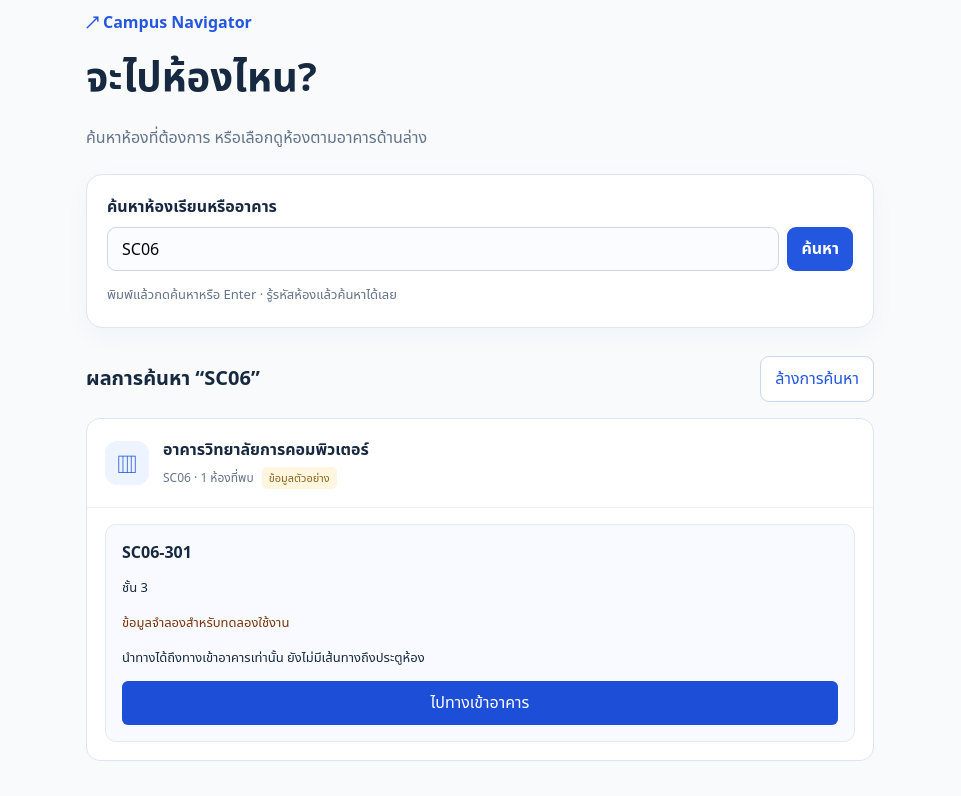
it: choosing another room returns to the search
The image size is (961, 796).
Click the button "ไปทางเข้าอาคาร". click: (480,703)
box: x1=122 y1=681 x2=838 y2=725
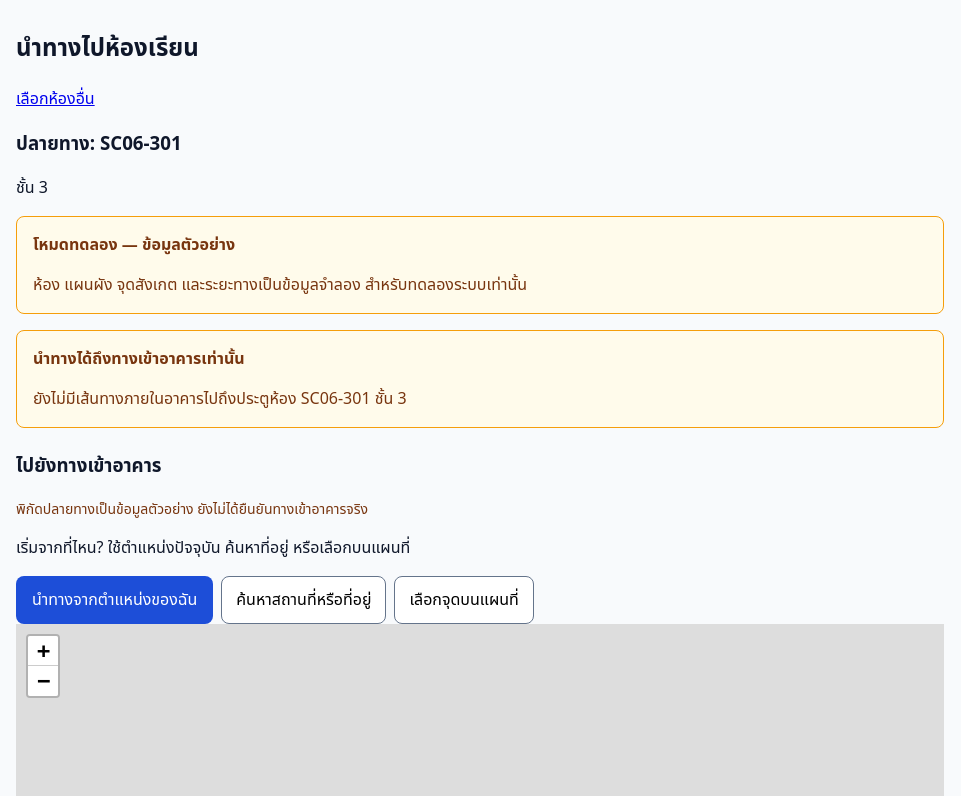
Click the link to "/?q=SC06". click: (55,98)
box: x1=16 y1=87 x2=95 y2=109
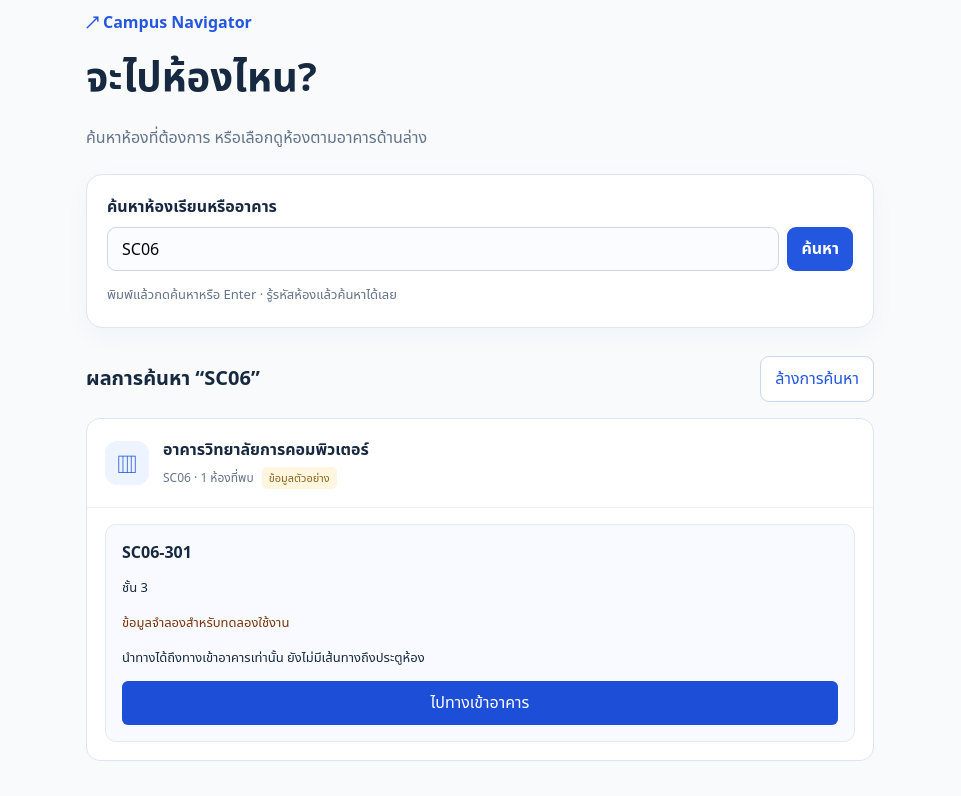
Now the field labelled "ค้นหาห้องเรียนหรืออาคาร" holds "SC06", box x1=107 y1=227 x2=779 y2=271
